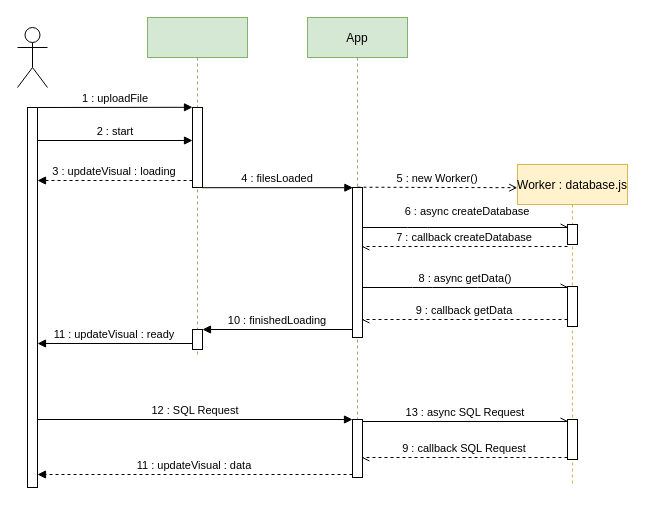
Some shapes in this 645 by 505 pixel diagram are drawn without their labels. The centre of each missing label's shape, as x and y in pixels:
FileLoader: [197,187]
User: [32,57]
